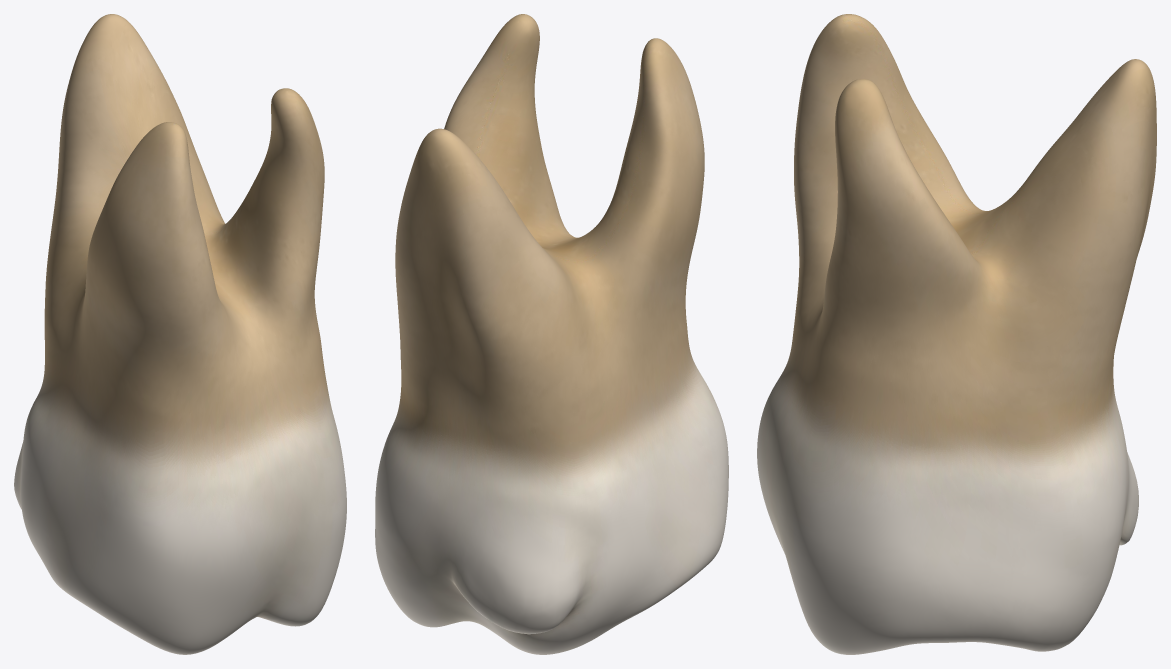
The model's file is t26_carabelli.glb.
3 renders of one model, left to right at view 1: azimuth 30°, elevation 25°; view 2: azimuth 150°, elevation 25°; view 3: azimuth 270°, elevation 25°, orthographic. The views are drawn at different scales.
Visible parts, largest first — view 1: t26_carabelli; view 2: t26_carabelli; view 3: t26_carabelli.
Boxes of the visible parts, <box> form: t26_carabelli: <box>14,14,346,654</box>; t26_carabelli: <box>375,14,728,654</box>; t26_carabelli: <box>757,14,1156,654</box>.
Size of the model in its own units: 10.71 by 20.5 by 12.98.
1 material, 1 textured.
